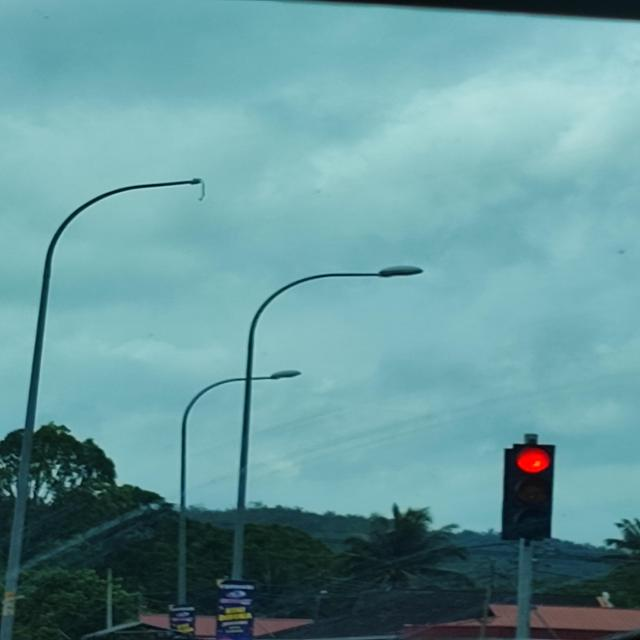traffic light: (501, 444, 556, 542)
